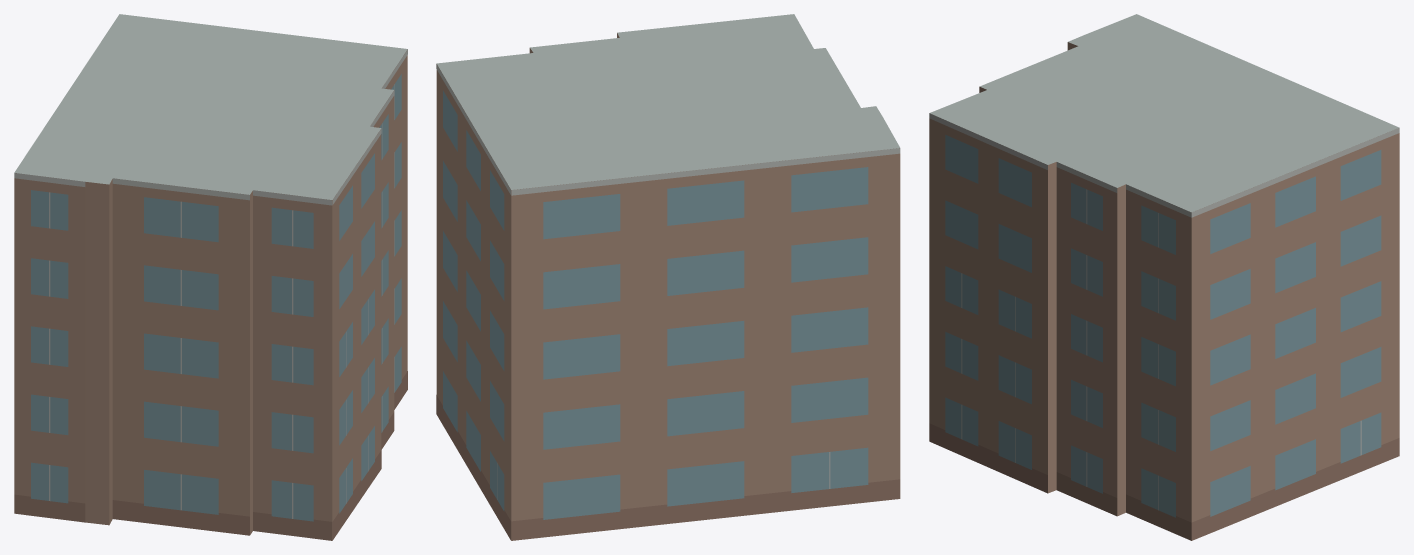
The model's file is survey-upis-32763676.glb.
3 renders of one model, left to right at view 1: azimuth 30°, elevation 25°; view 2: azimuth 150°, elevation 25°; view 3: azimuth 270°, elevation 25°, orthographic. The views are drawn at different scales.
Visible parts, largest first — view 1: survey-upis-32763676.tmp; view 2: survey-upis-32763676.tmp; view 3: survey-upis-32763676.tmp.
Boxes of the visible parts, x1,y1,x2,y2 form: survey-upis-32763676.tmp: (14, 14, 407, 540); survey-upis-32763676.tmp: (436, 14, 900, 540); survey-upis-32763676.tmp: (929, 14, 1399, 540).
Bounding box in the file's own units: 19.77 × 15.25 × 19.8.
